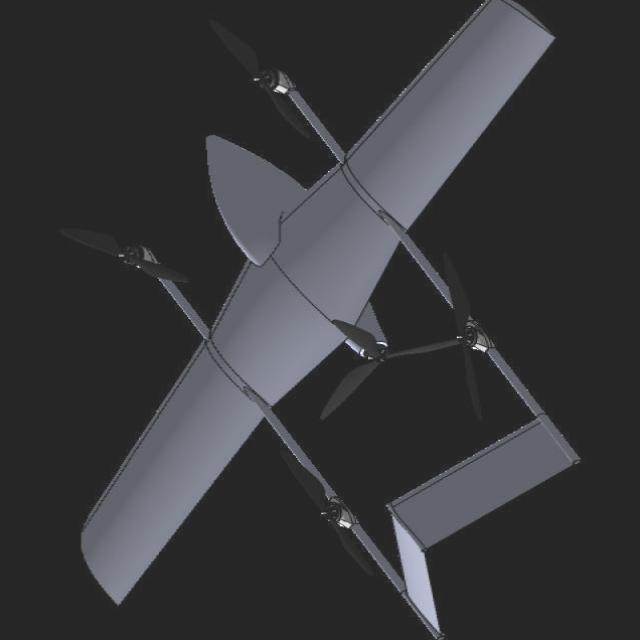plane: (58, 0, 582, 638)
